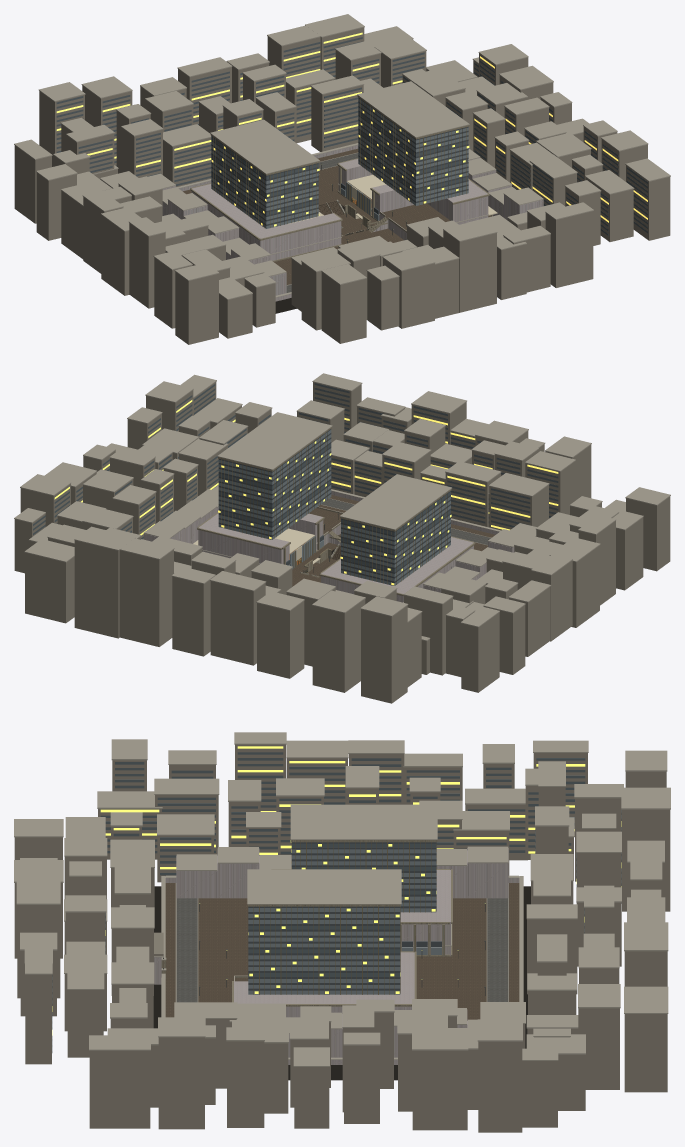
The model's file is central-towers.glb.
3 renders of one model, top to bottom at view 1: azimuth 30°, elevation 25°; view 2: azimuth 150°, elevation 25°; view 3: azimuth 270°, elevation 25°, orthographic. The views are drawn at different scales.
Parts seen in each view (by area): view 1: bake:plain:plain:#8e8779:1.00:0.00:None, bake:plain:plain:#a8a294:1.00:0.00:None, bake:plain:plain:#5d686c:1.00:0.00:None, bake:painted_plaster_wall:render:#c6bca8, bake:plain:plain:#7c878a:1.00:0.00:None, bake:plain:plain:#4f565a:1.00:0.00:None, bake:plain:plain:#7d6a45:1.00:0.00:None, bake:plain:glow:#a8863f, bake:herringbone_pavement:paving:#efe7d4, bake:concrete_wall_007:concrete:#9d968c, bake:herringbone_pavement:paving:#e7dfcc, bake:plain:plain:#d7cdb3:1.00:0.00:None; view 2: bake:plain:plain:#8e8779:1.00:0.00:None, bake:plain:plain:#a8a294:1.00:0.00:None, bake:plain:plain:#7c878a:1.00:0.00:None, bake:plain:plain:#5d686c:1.00:0.00:None, bake:plain:plain:#4f565a:1.00:0.00:None, bake:painted_plaster_wall:render:#c6bca8, bake:plain:plain:#7d6a45:1.00:0.00:None, bake:plain:glow:#a8863f, bake:concrete_wall_007:concrete:#9d968c, bake:herringbone_pavement:paving:#efe7d4, bake:herringbone_pavement:paving:#e7dfcc, bake:plain:plain:#d7cdb3:1.00:0.00:None (+1 smaller); view 3: bake:plain:plain:#8e8779:1.00:0.00:None, bake:plain:plain:#a8a294:1.00:0.00:None, bake:herringbone_pavement:paving:#efe7d4, bake:plain:plain:#5d686c:1.00:0.00:None, bake:plain:plain:#7c878a:1.00:0.00:None, bake:painted_plaster_wall:render:#c6bca8, bake:plain:plain:#4f565a:1.00:0.00:None, bake:asphalt_02:asphalt, bake:plain:plain:#7d6a45:1.00:0.00:None, bake:plain:glow:#a8863f, bake:concrete_wall_007:concrete:#9d968c, bake:plain:plain:#24211d:1.00:0.00:None.
Boxes of the visible parts, x1=… form: bake:plain:plain:#8e8779:1.00:0.00:None: x1=14, y1=27, x2=670, y2=344; bake:plain:plain:#a8a294:1.00:0.00:None: x1=14, y1=14, x2=670, y2=299; bake:plain:plain:#5d686c:1.00:0.00:None: x1=56, y1=37, x2=647, y2=235; bake:painted_plaster_wall:render:#c6bca8: x1=162, y1=145, x2=543, y2=301; bake:plain:plain:#7c878a:1.00:0.00:None: x1=211, y1=98, x2=468, y2=228; bake:plain:plain:#4f565a:1.00:0.00:None: x1=211, y1=97, x2=468, y2=225; bake:plain:plain:#7d6a45:1.00:0.00:None: x1=213, y1=99, x2=466, y2=227; bake:plain:glow:#a8863f: x1=56, y1=32, x2=647, y2=226; bake:herringbone_pavement:paving:#efe7d4: x1=183, y1=148, x2=490, y2=284; bake:concrete_wall_007:concrete:#9d968c: x1=190, y1=96, x2=492, y2=261; bake:herringbone_pavement:paving:#e7dfcc: x1=318, y1=201, x2=450, y2=236; bake:plain:plain:#d7cdb3:1.00:0.00:None: x1=288, y1=175, x2=497, y2=223; bake:plain:plain:#8e8779:1.00:0.00:None: x1=14, y1=382, x2=670, y2=703; bake:plain:plain:#a8a294:1.00:0.00:None: x1=14, y1=373, x2=670, y2=641; bake:plain:plain:#7c878a:1.00:0.00:None: x1=218, y1=430, x2=450, y2=585; bake:plain:plain:#5d686c:1.00:0.00:None: x1=33, y1=383, x2=558, y2=572; bake:plain:plain:#4f565a:1.00:0.00:None: x1=218, y1=429, x2=450, y2=582; bake:painted_plaster_wall:render:#c6bca8: x1=144, y1=491, x2=514, y2=602; bake:plain:plain:#7d6a45:1.00:0.00:None: x1=221, y1=432, x2=447, y2=585; bake:plain:glow:#a8863f: x1=54, y1=400, x2=558, y2=585; bake:concrete_wall_007:concrete:#9d968c: x1=197, y1=427, x2=475, y2=596; bake:herringbone_pavement:paving:#efe7d4: x1=292, y1=495, x2=494, y2=586; bake:herringbone_pavement:paving:#e7dfcc: x1=308, y1=508, x2=341, y2=578; bake:plain:plain:#d7cdb3:1.00:0.00:None: x1=193, y1=528, x2=320, y2=565; bake:plain:plain:#8e8779:1.00:0.00:None: x1=14, y1=744, x2=670, y2=1132; bake:plain:plain:#a8a294:1.00:0.00:None: x1=14, y1=732, x2=670, y2=1066; bake:herringbone_pavement:paving:#efe7d4: x1=165, y1=883, x2=519, y2=1020; bake:plain:plain:#5d686c:1.00:0.00:None: x1=52, y1=752, x2=621, y2=1052; bake:plain:plain:#7c878a:1.00:0.00:None: x1=248, y1=849, x2=441, y2=994; bake:painted_plaster_wall:render:#c6bca8: x1=154, y1=848, x2=519, y2=1064; bake:plain:plain:#4f565a:1.00:0.00:None: x1=248, y1=842, x2=441, y2=990; bake:asphalt_02:asphalt: x1=176, y1=898, x2=508, y2=1002; bake:plain:plain:#7d6a45:1.00:0.00:None: x1=253, y1=842, x2=436, y2=994; bake:plain:glow:#a8863f: x1=52, y1=746, x2=621, y2=1035; bake:concrete_wall_007:concrete:#9d968c: x1=161, y1=840, x2=452, y2=1006; bake:plain:plain:#24211d:1.00:0.00:None: x1=153, y1=886, x2=530, y2=1080.
Size of the model in its own units: 403 by 85.36 by 363.
Materials: 20 (7 with a texture image).
